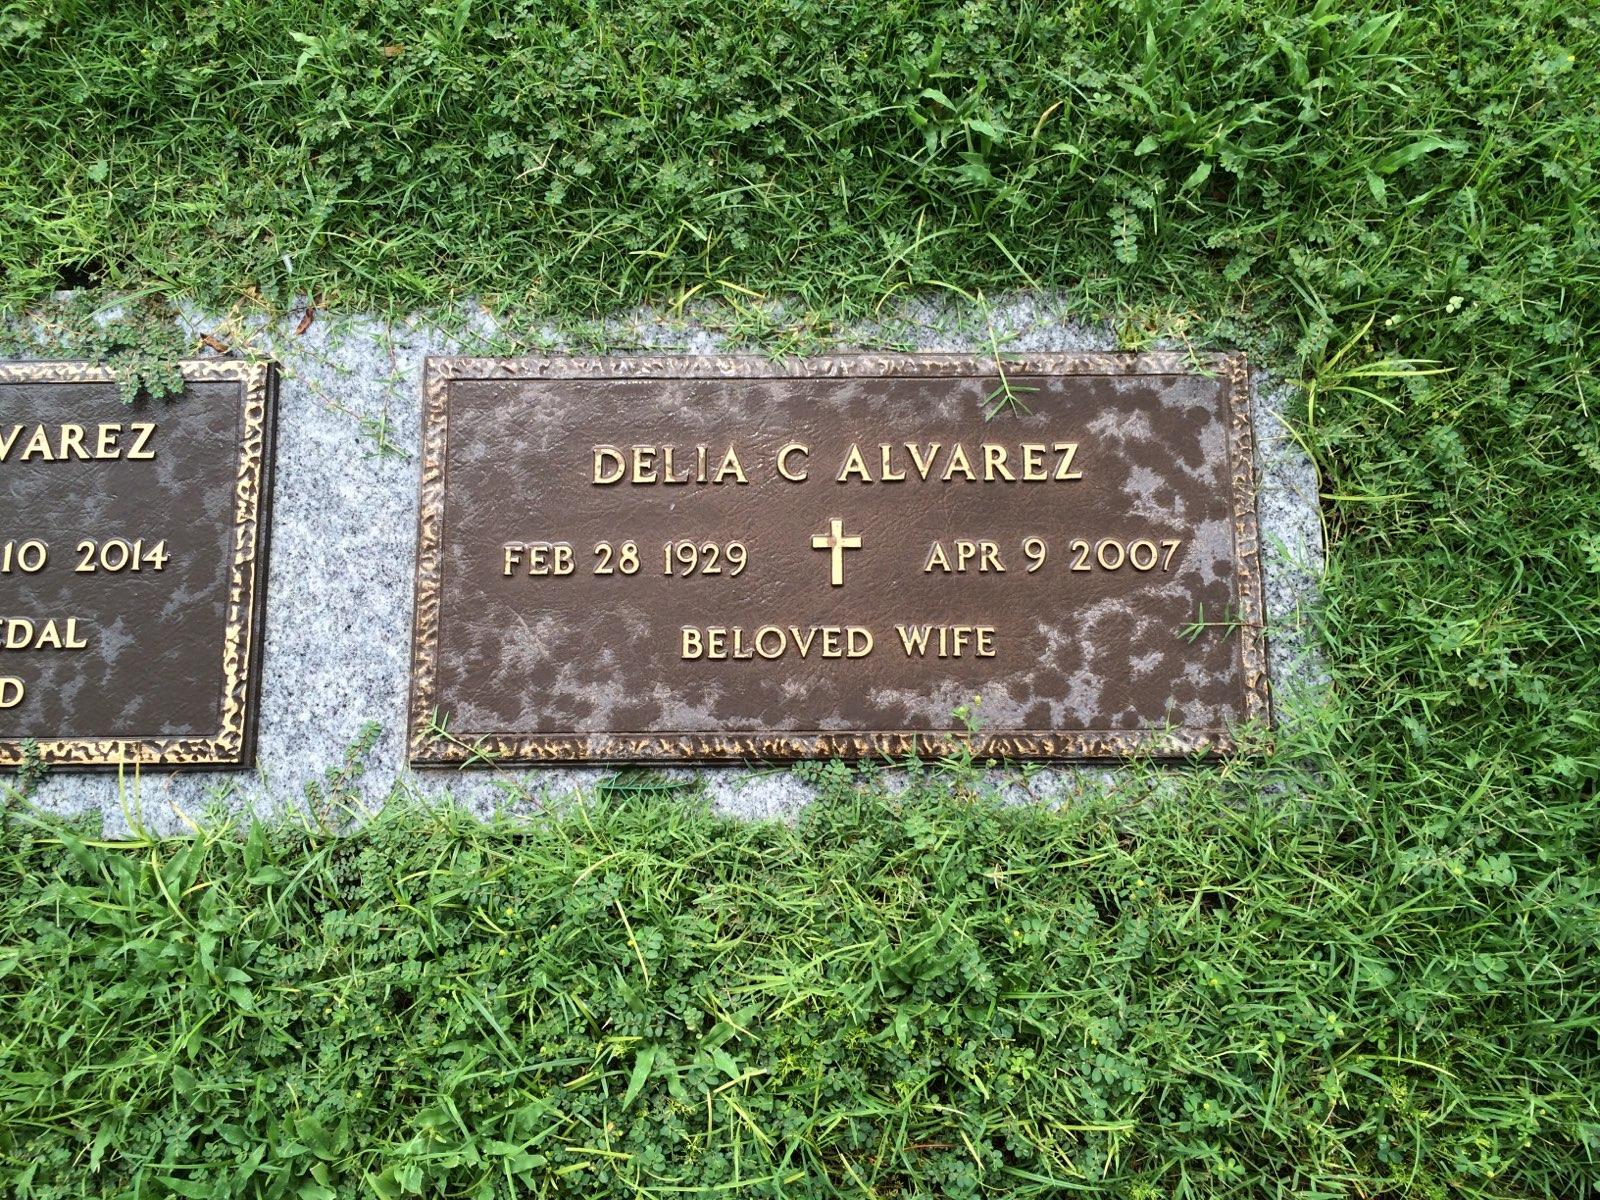flat: (409, 342, 1277, 774)
